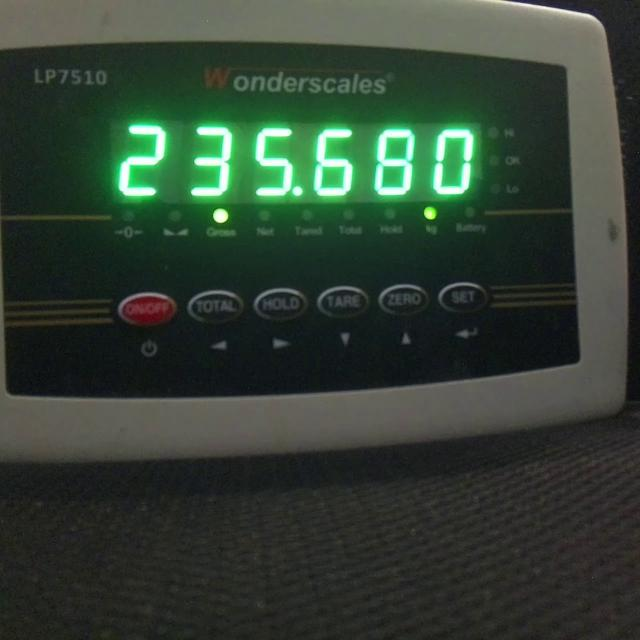.: (292, 186, 302, 196)
0: (434, 128, 474, 195)
2: (118, 123, 164, 196)
3: (191, 125, 233, 196)
5: (252, 125, 294, 197)
6: (312, 127, 353, 196)
8: (374, 128, 414, 195)
